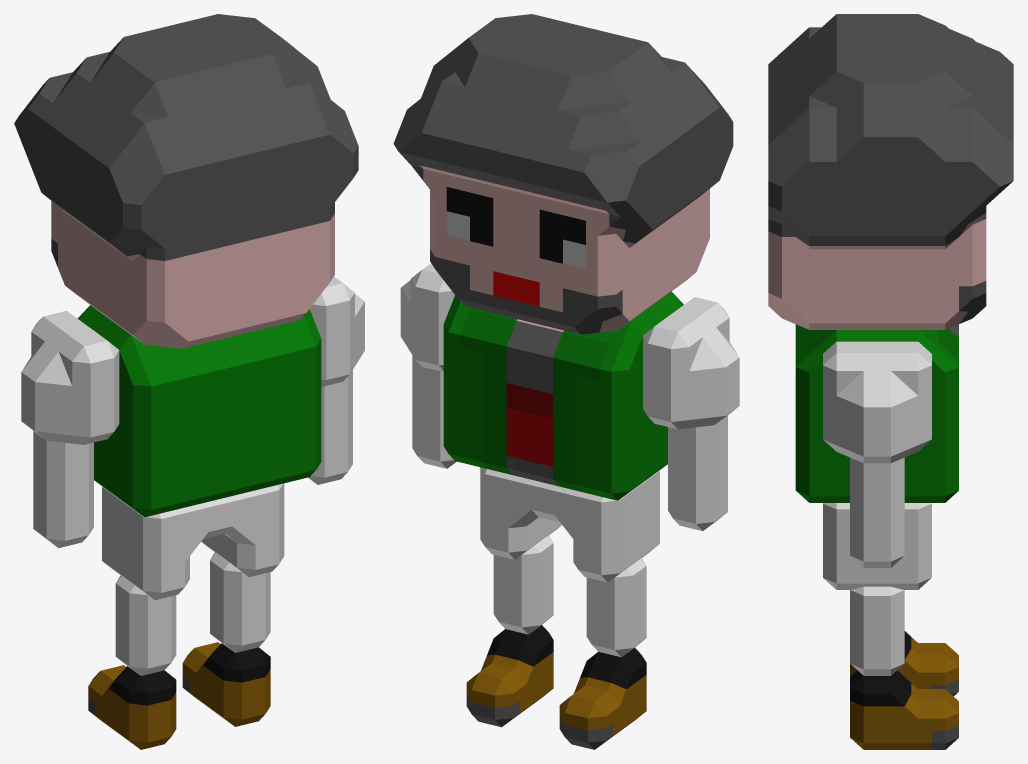
File: itmyStealer_test1.fbx
3 renders of one model, left to right at view 1: azimuth 30°, elevation 25°; view 2: azimuth 150°, elevation 25°; view 3: azimuth 270°, elevation 25°, orthographic.
Visible parts, largest first — view 1: stealer_0612, stealer_0612.012, stealer_0612.007, stealer_0612.014, stealer_0612.002, stealer_0612.001, stealer_0612.013, stealer_0612.009, stealer_0612.006, stealer_0612.005, stealer_0612.011, stealer_0612.008 (+3 smaller); view 2: stealer_0612, stealer_0612.012, stealer_0612.007, stealer_0612.014, stealer_0612.001, stealer_0612.002, stealer_0612.013, stealer_0612.009, stealer_0612.006, stealer_0612.005, stealer_0612.011, stealer_0612.008 (+3 smaller); view 3: stealer_0612, stealer_0612.012, stealer_0612.013, stealer_0612.001, stealer_0612.007, stealer_0612.005, stealer_0612.008, stealer_0612.010, stealer_0612.002, stealer_0612.003.
Boxes of the visible parts, bbox=[...] form: stealer_0612: bbox=[14, 14, 358, 348]; stealer_0612.012: bbox=[77, 305, 321, 517]; stealer_0612.007: bbox=[102, 483, 284, 600]; stealer_0612.014: bbox=[21, 310, 119, 444]; stealer_0612.002: bbox=[88, 665, 176, 749]; stealer_0612.001: bbox=[182, 642, 270, 726]; stealer_0612.013: bbox=[310, 276, 364, 386]; stealer_0612.009: bbox=[33, 479, 93, 548]; stealer_0612.006: bbox=[115, 575, 176, 643]; stealer_0612.005: bbox=[210, 552, 270, 620]; stealer_0612.011: bbox=[33, 431, 93, 491]; stealer_0612.008: bbox=[308, 416, 352, 484]; stealer_0612: bbox=[393, 14, 733, 334]; stealer_0612.012: bbox=[443, 291, 683, 500]; stealer_0612.007: bbox=[480, 467, 659, 582]; stealer_0612.014: bbox=[643, 297, 739, 429]; stealer_0612.001: bbox=[466, 625, 553, 727]; stealer_0612.002: bbox=[559, 648, 646, 749]; stealer_0612.013: bbox=[400, 263, 454, 371]; stealer_0612.009: bbox=[668, 462, 727, 531]; stealer_0612.006: bbox=[586, 558, 646, 626]; stealer_0612.005: bbox=[493, 535, 553, 602]; stealer_0612.011: bbox=[668, 415, 727, 475]; stealer_0612.008: bbox=[412, 400, 456, 468]; stealer_0612: bbox=[768, 14, 1013, 329]; stealer_0612.012: bbox=[795, 324, 958, 502]; stealer_0612.013: bbox=[823, 341, 931, 463]; stealer_0612.001: bbox=[850, 670, 958, 749]; stealer_0612.007: bbox=[823, 503, 931, 589]; stealer_0612.005: bbox=[850, 586, 904, 645]; stealer_0612.008: bbox=[850, 506, 904, 567]; stealer_0612.010: bbox=[850, 457, 904, 512]; stealer_0612.002: bbox=[850, 631, 958, 696]; stealer_0612.003: bbox=[850, 639, 904, 675].
Size of the model in its own units: 1.4 by 2.75 by 0.9.
